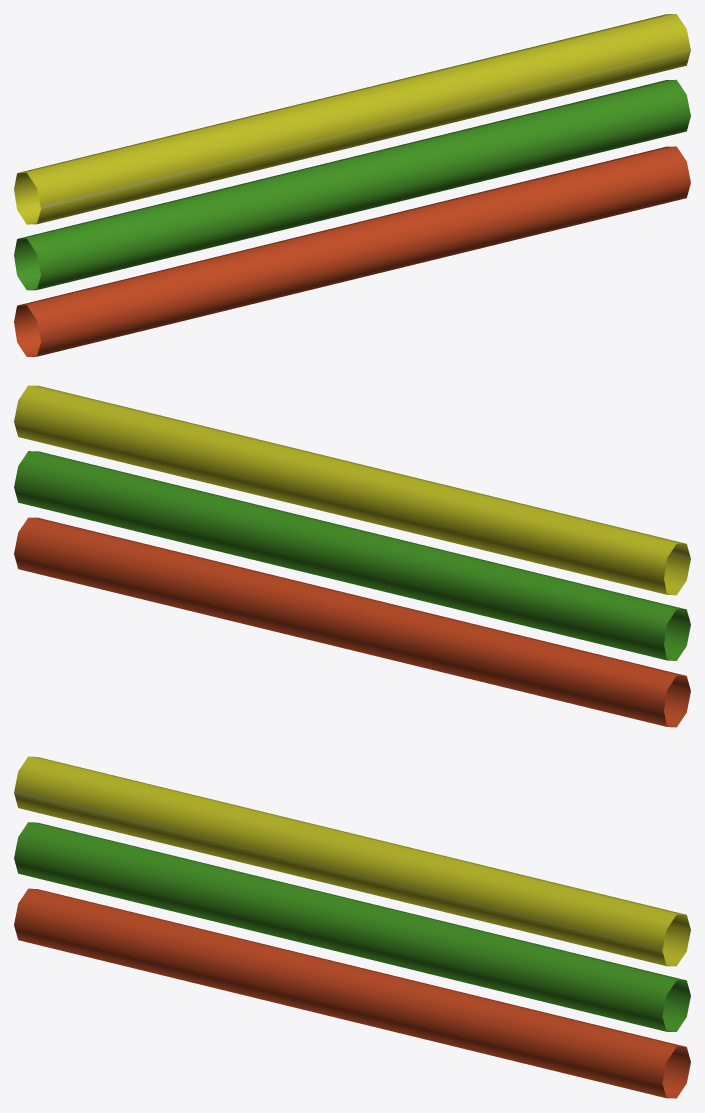
The model's file is PipeMid2.FBX.
The picture shows the model from 3 angles, top to bottom: view 1: azimuth 30°, elevation 25°; view 2: azimuth 150°, elevation 25°; view 3: azimuth 330°, elevation 25°; orthographic projection.
Visible parts, largest first — view 1: Line001; view 2: Line001; view 3: Line001.
Boxes of the visible parts, x1=… form: Line001: x1=14, y1=14, x2=690, y2=356; Line001: x1=14, y1=385, x2=690, y2=727; Line001: x1=14, y1=756, x2=690, y2=1098.
Bounding box in the file's own units: 39.32 × 10.66 × 3.01.
Materials: 1 (1 with a texture image).
